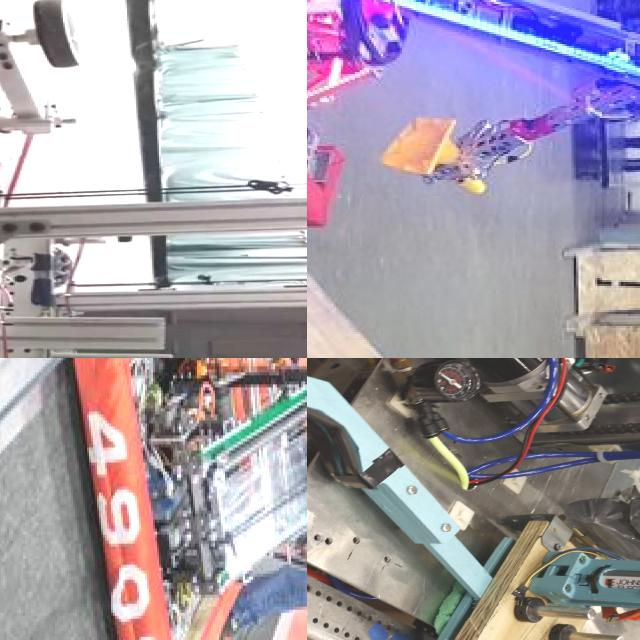FRC-Robots: (0, 0, 307, 358), (307, 358, 640, 640), (307, 0, 640, 270), (67, 358, 307, 640)
